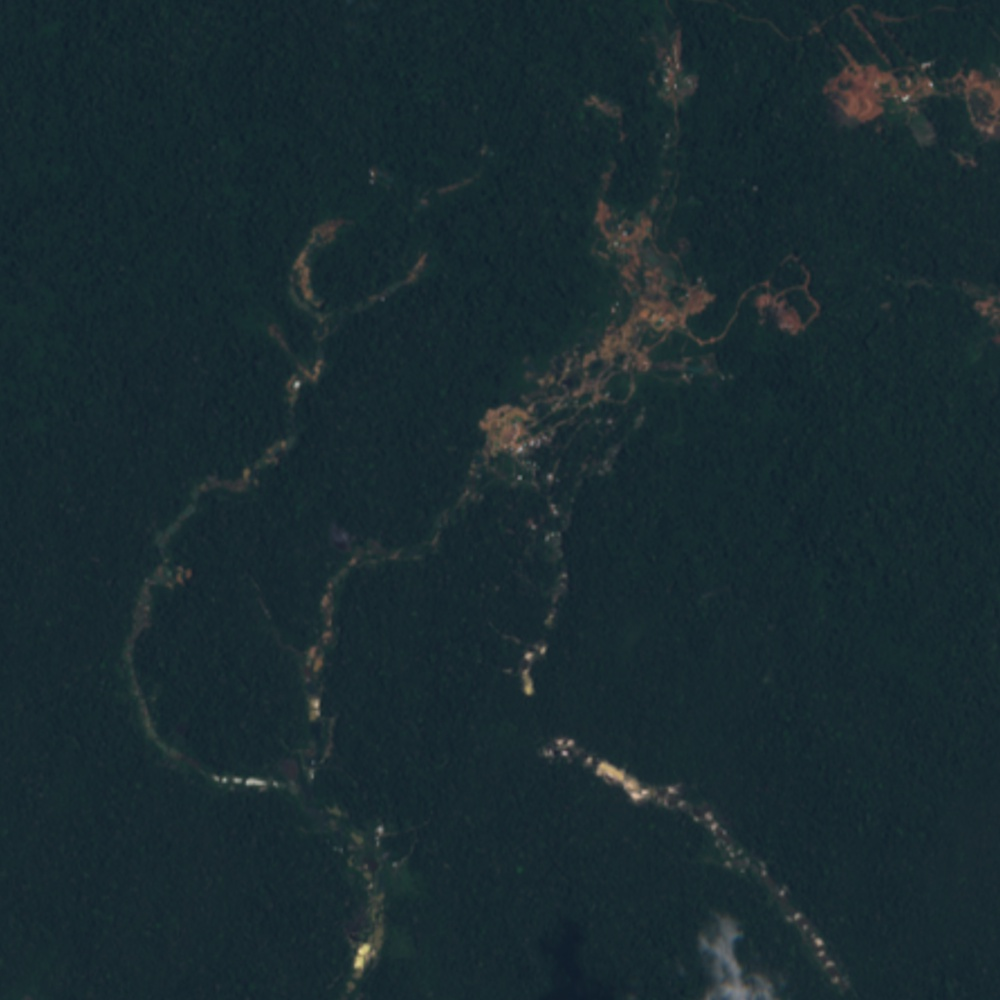legal: (426, 18, 722, 564), (542, 737, 861, 997), (118, 561, 417, 805), (263, 139, 491, 406), (812, 1, 1000, 177), (300, 801, 433, 1000), (152, 411, 303, 562), (871, 267, 1000, 353), (498, 563, 576, 697), (319, 519, 434, 578), (752, 247, 824, 341), (693, 581, 740, 608)
